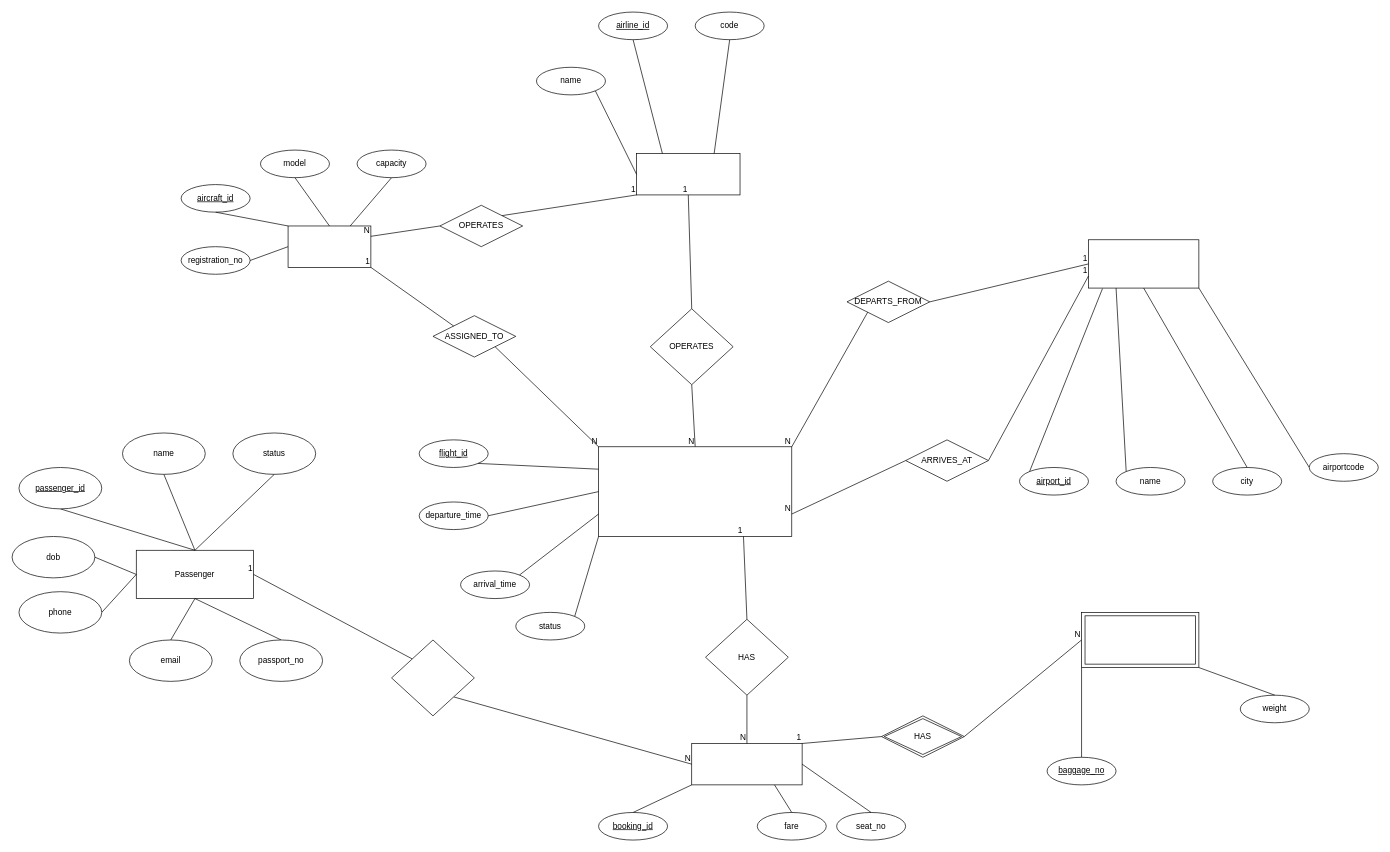
This 1390x852 diagram has some shape labels left out. Here are the shapes that lost their labels. From the top down, the box of each, then its label:
(636, 153, 740, 195): Airline
(287, 225, 371, 267): Aircraft
(1088, 239, 1199, 288): Airport
(598, 446, 792, 536): Flight
(1081, 612, 1199, 668): Baggage
(391, 639, 474, 716): MAKES
(691, 743, 802, 785): Booking
